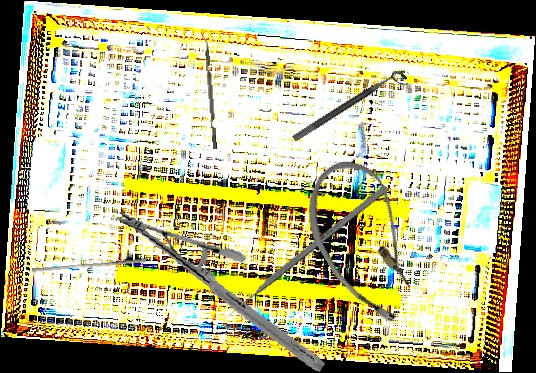Cannula: (285, 148, 447, 335)
Chopper: (200, 34, 217, 150)
Fixation Ring: (291, 67, 410, 152)
Needle Holder: (98, 209, 343, 373)
Pusher: (220, 183, 390, 323), (31, 254, 147, 276)
